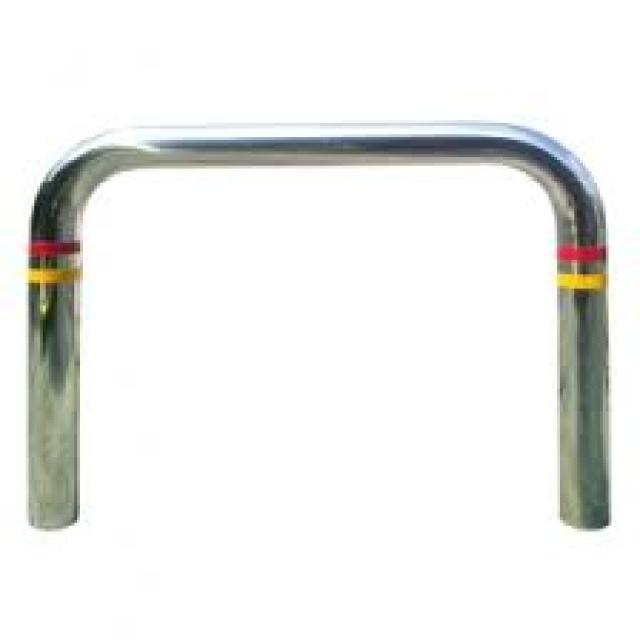bollard: (19, 112, 617, 545)
